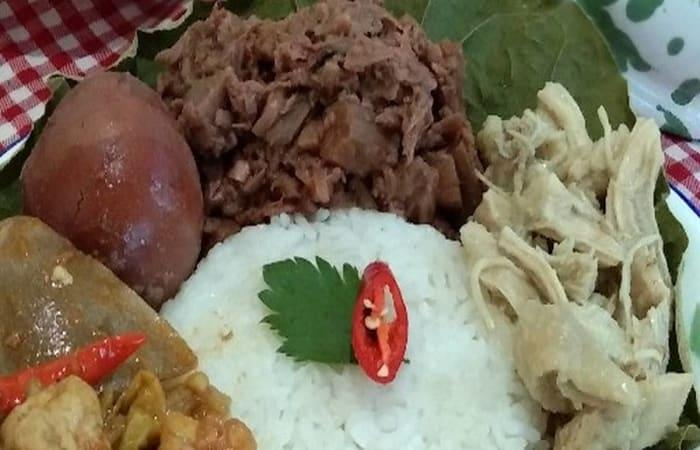gudeg: (5, 2, 693, 450)
